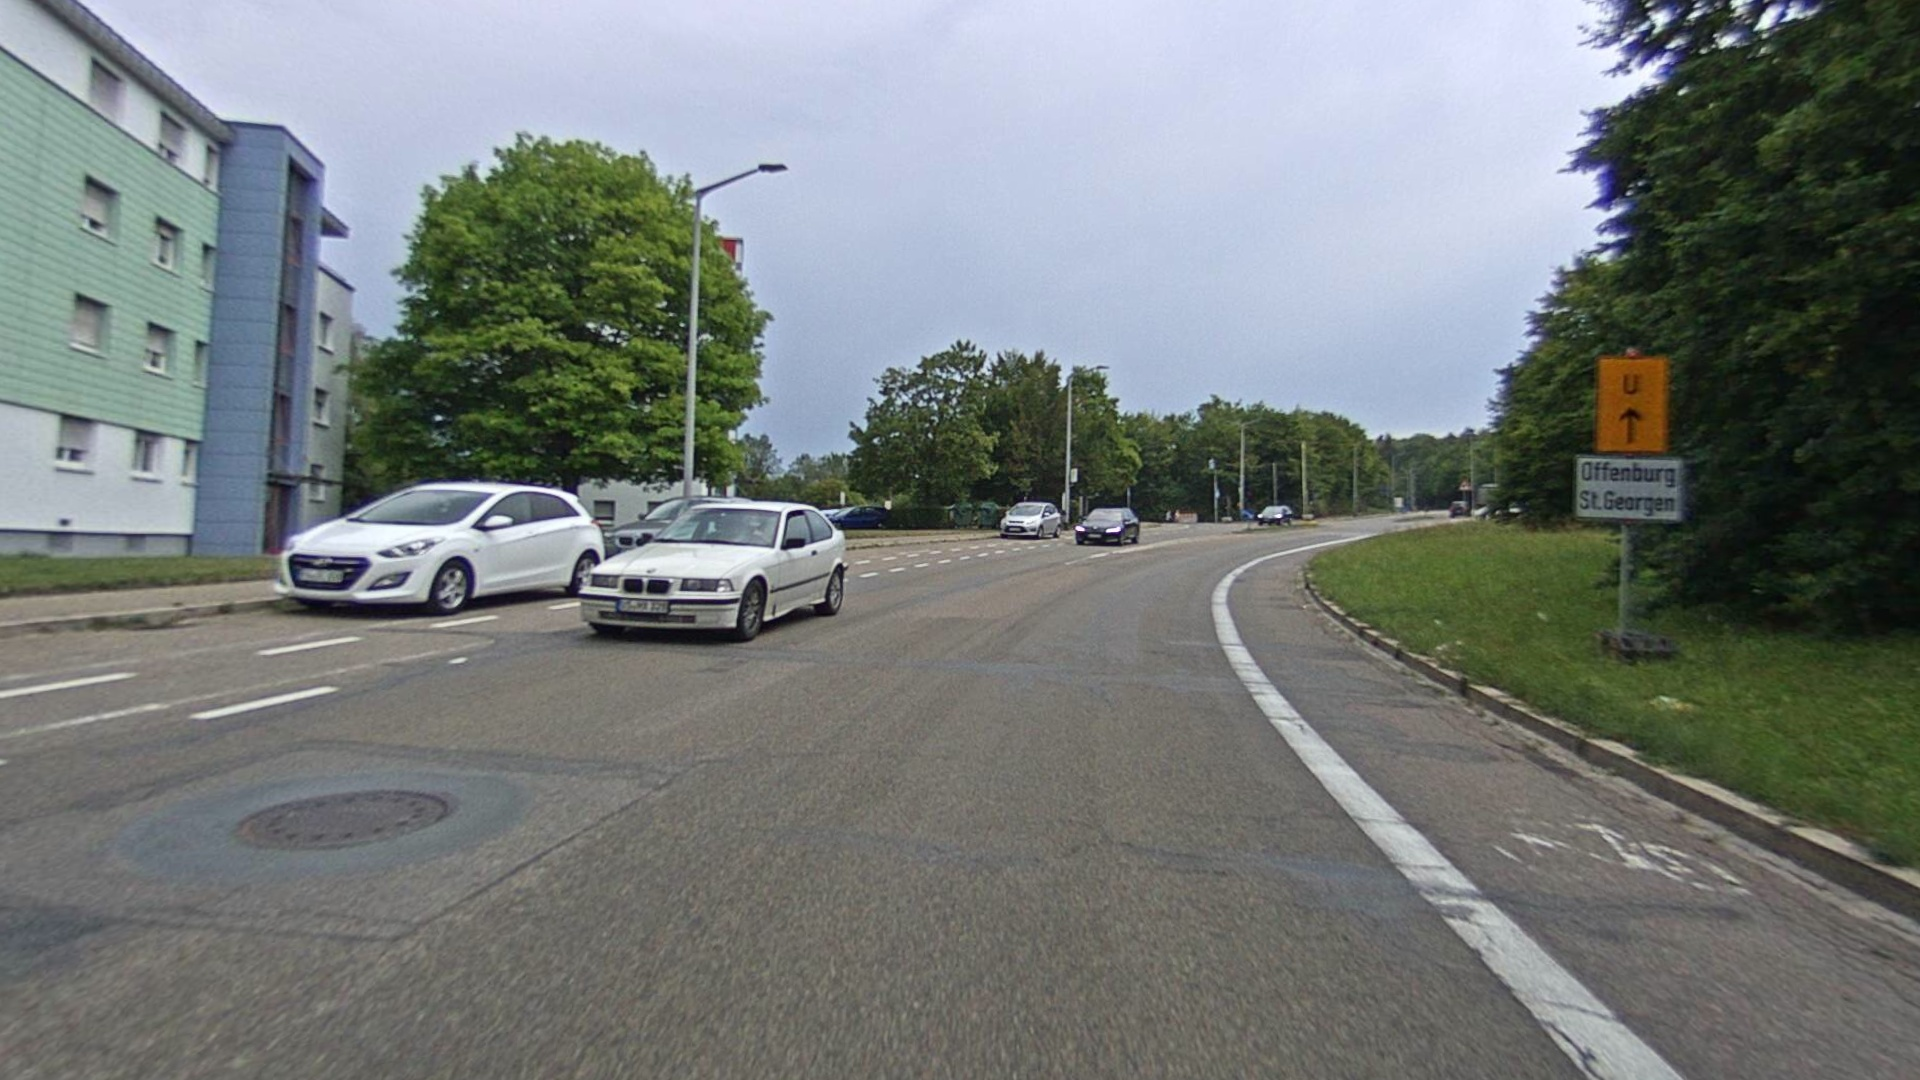car: (270, 476, 605, 612), (575, 498, 849, 645)
